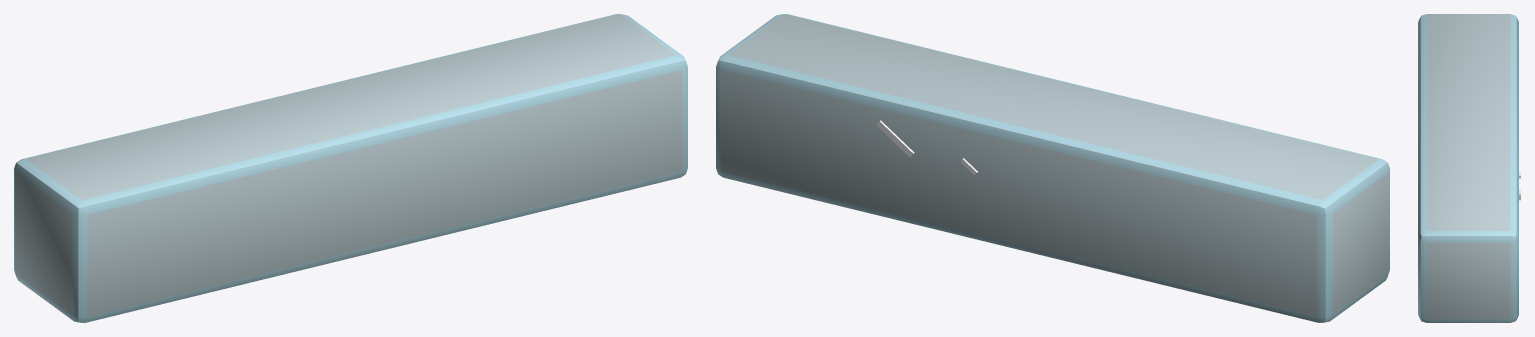
The model's file is PlankSmallIce.fbx.
3 renders of one model, left to right at view 1: azimuth 30°, elevation 25°; view 2: azimuth 150°, elevation 25°; view 3: azimuth 270°, elevation 25°, orthographic. The views are drawn at different scales.
Visible parts, largest first — view 1: PlankSmallIce; view 2: PlankSmallIce; view 3: PlankSmallIce.
Part boxes in pixels (x1,y1,x2,y2): PlankSmallIce: (14,14,687,322); PlankSmallIce: (716,14,1389,322); PlankSmallIce: (1418,14,1520,322).
Bounding box in the file's own units: 7.35 × 1.4 × 1.43.
